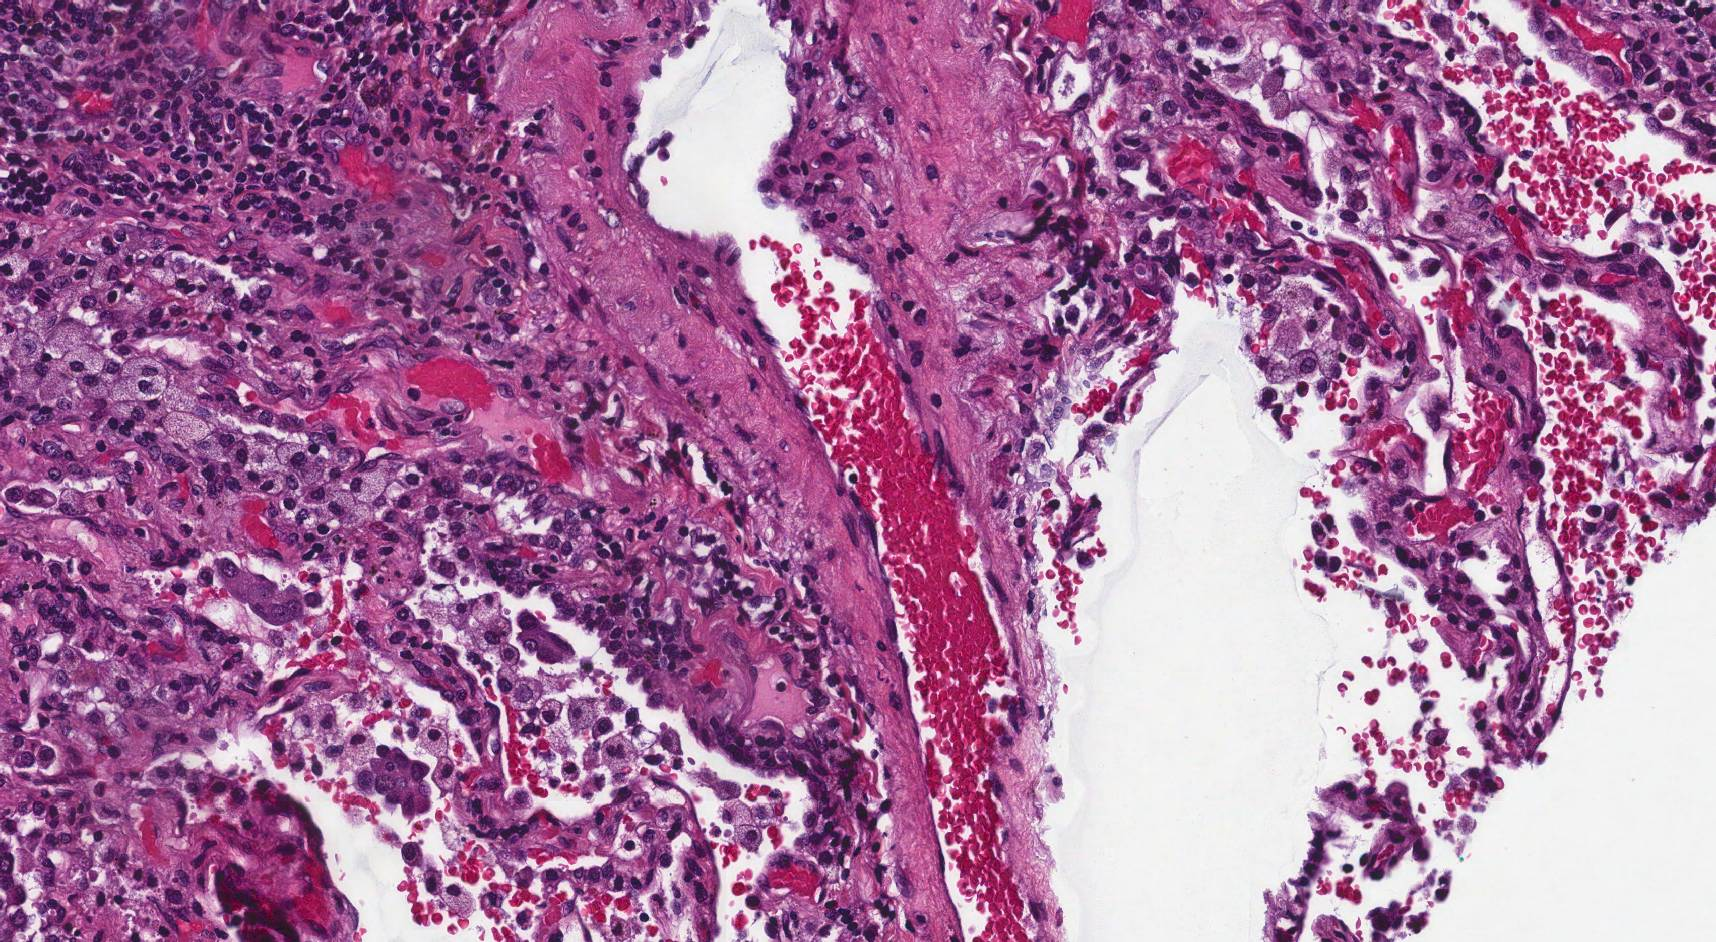stas: (211, 557, 307, 625), (371, 744, 438, 820), (513, 611, 576, 665)
